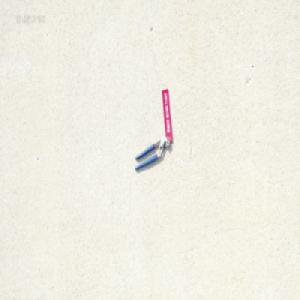Label: (161, 88, 173, 142)
Pliers: (134, 135, 170, 170)
